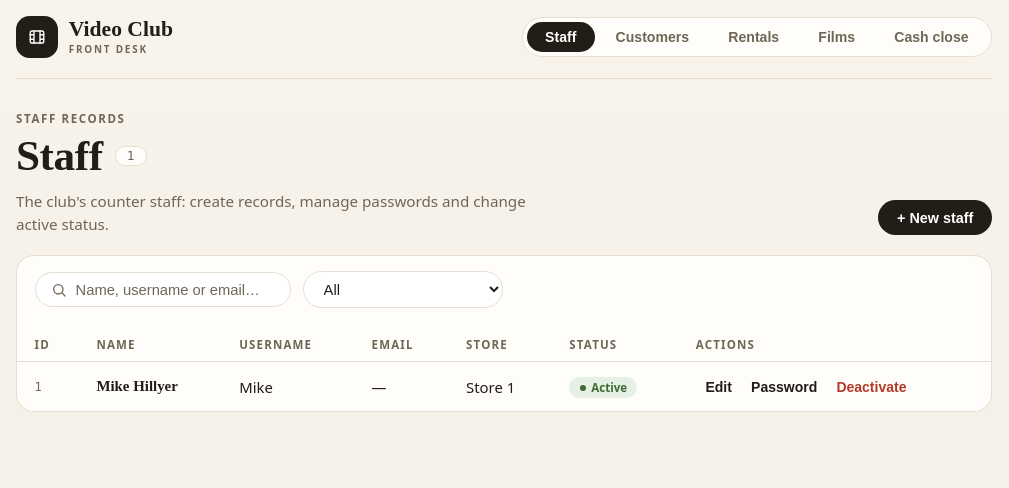
it: Rentals view › lists open rentals with the open filter by default
Step 1. Click the tab "Rentals" → (754,37), box x1=710 y1=22 x2=798 y2=52
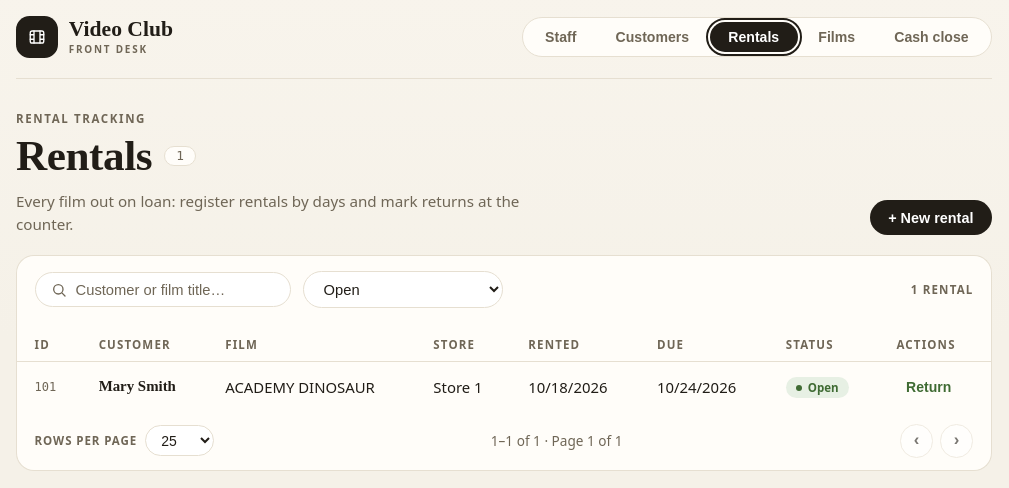
Now the text "ACADEMY DINOSAUR" is shown, box x1=208 y1=361 x2=416 y2=411
Now the text "Mary Smith" is shown, box x1=81 y1=361 x2=208 y2=411
Now the text "Open" is shown, box x1=786 y1=377 x2=849 y2=398
